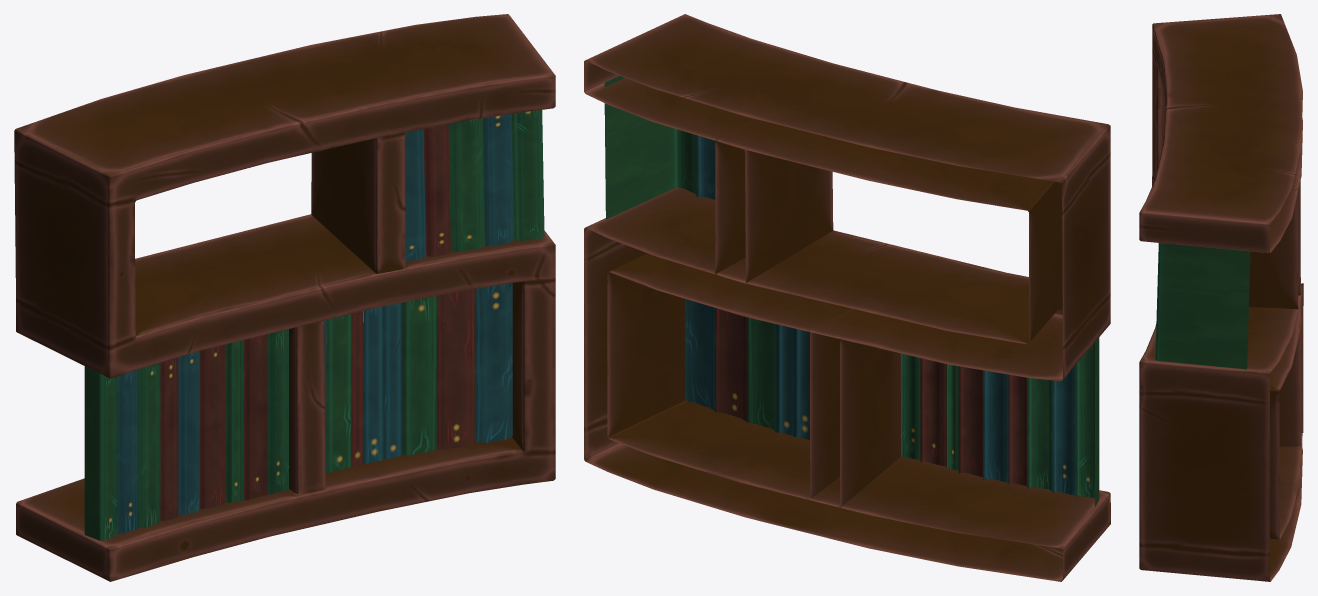
File: SM_BookShelf_05_Full.fbx
3 views of the same model, side by side, from view 1: azimuth 30°, elevation 25°; view 2: azimuth 150°, elevation 25°; view 3: azimuth 270°, elevation 25° (orthographic). The views are drawn at different scales.
Visible parts, largest first — view 1: SM_BookShelf_05_Full_LOD0; view 2: SM_BookShelf_05_Full_LOD0; view 3: SM_BookShelf_05_Full_LOD0.
Boxes of the visible parts, x1,y1,x2,y2 form: SM_BookShelf_05_Full_LOD0: (14,14,555,581); SM_BookShelf_05_Full_LOD0: (584,14,1110,581); SM_BookShelf_05_Full_LOD0: (1139,14,1303,581).
Size of what is drawn, in the model's own units: 2.4 by 1.9 by 0.7881.
